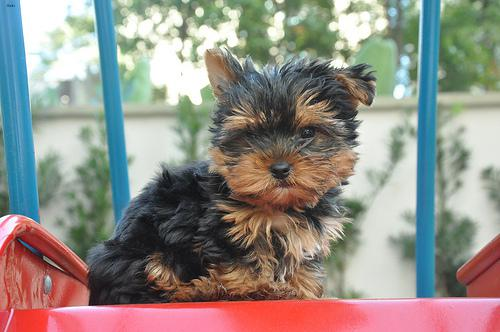dog-yorkshire_terrier: (205, 46, 372, 201)
